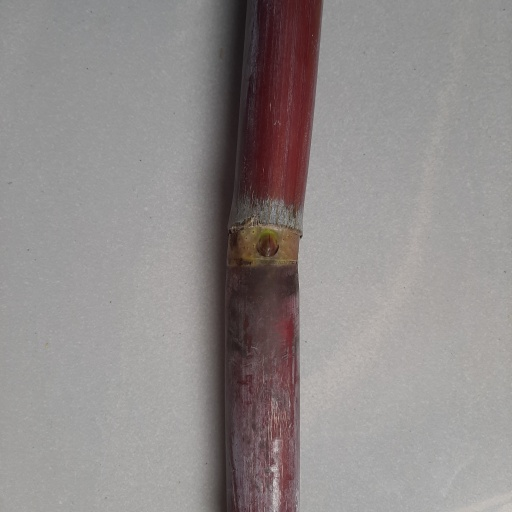Bud: (253, 231, 281, 256)
